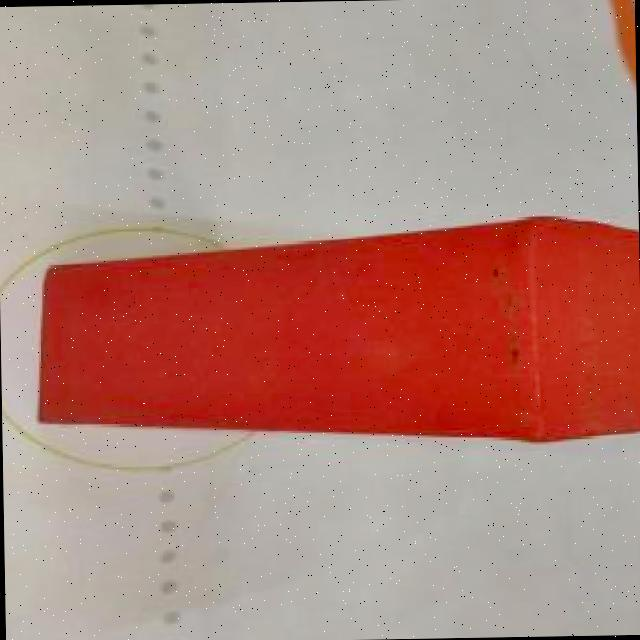redbox: (43, 247, 640, 444)
